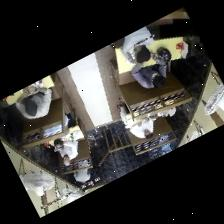person: (117, 104, 153, 138), (131, 54, 166, 87), (16, 86, 51, 118), (122, 26, 153, 62), (59, 139, 77, 165), (73, 168, 90, 188), (43, 124, 61, 135)
